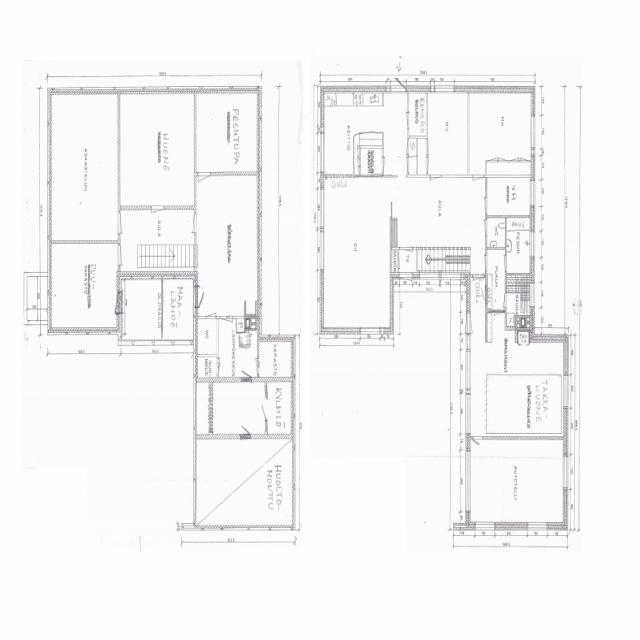door: (390, 61, 406, 94), (465, 313, 483, 334), (104, 292, 121, 313), (453, 313, 470, 334), (194, 286, 210, 308), (400, 272, 412, 300), (252, 400, 268, 419), (152, 205, 164, 230), (198, 171, 210, 195), (118, 213, 132, 233), (240, 359, 252, 382), (220, 316, 232, 339), (430, 174, 442, 197), (400, 247, 412, 270), (118, 246, 132, 265), (473, 174, 484, 196), (183, 214, 196, 232), (475, 255, 487, 272), (509, 143, 519, 162), (519, 143, 529, 162), (472, 436, 482, 455), (241, 418, 250, 439), (488, 144, 498, 162), (498, 144, 508, 162), (217, 358, 228, 374), (426, 139, 437, 155), (426, 157, 437, 173), (398, 112, 409, 128), (382, 157, 393, 173), (476, 197, 487, 213), (248, 358, 259, 373), (476, 287, 487, 302), (476, 220, 487, 235), (207, 302, 216, 320), (398, 140, 409, 154), (398, 158, 409, 172), (398, 254, 408, 269), (496, 294, 506, 308), (496, 256, 506, 270)
